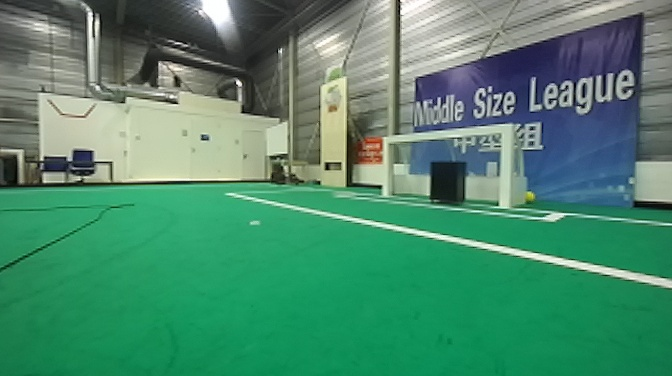ball: (525, 187, 537, 205)
goalpost: (497, 119, 517, 214), (377, 134, 395, 199)
